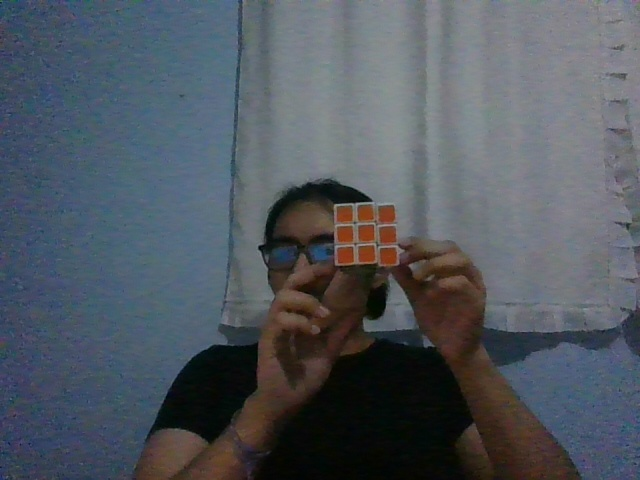rubik: (333, 201, 400, 275)
